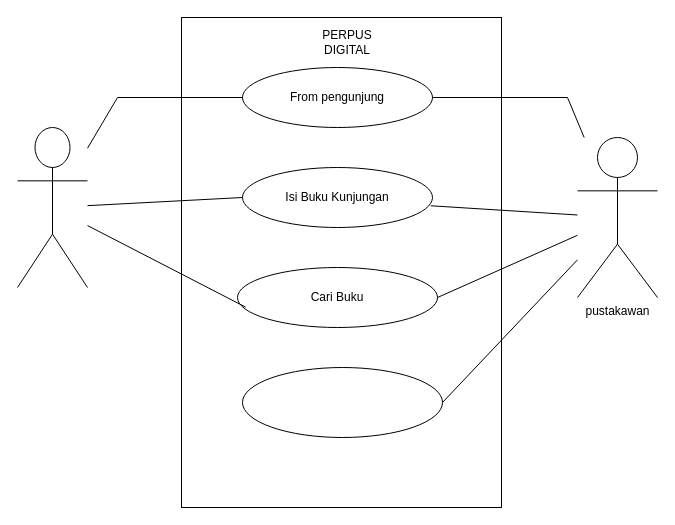
This 675x525 diagram has some shape labels left out. The centre of each missing label's shape, as x and y in pixels:
Baca Buku: the point at 342,402
pengunjung: the point at 52,207
